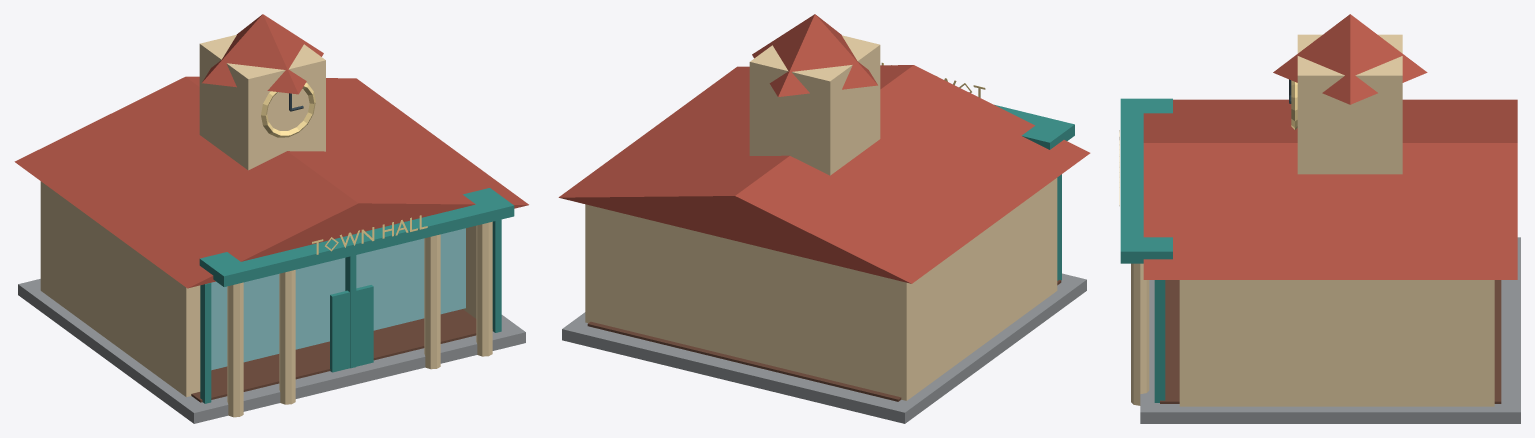
The model's file is town_hall.glb.
The picture shows the model from 3 angles, left to right: view 1: azimuth 30°, elevation 25°; view 2: azimuth 150°, elevation 25°; view 3: azimuth 270°, elevation 25°; orthographic projection. The views are drawn at different scales.
Parts seen in each view (by area): view 1: gable_roof, side_wall, window_back, clock_tower, foundation, portico, floor, tower_cap, door, column.003, column.001, column (+8 smaller); view 2: gable_roof, rear_wall, side_wall, clock_tower, foundation, tower_cap, floor, portico, front_post; view 3: gable_roof, side_wall.001, clock_tower, foundation, tower_cap, portico, floor, rear_wall, column.003, front_post.002.
Boxes of the visible parts, bbox=[...] form: gable_roof: bbox=[14, 76, 528, 288]; side_wall: bbox=[46, 188, 200, 397]; window_back: bbox=[211, 228, 465, 370]; clock_tower: bbox=[199, 34, 325, 170]; foundation: bbox=[18, 279, 525, 423]; portico: bbox=[199, 188, 514, 286]; floor: bbox=[191, 309, 492, 402]; tower_cap: bbox=[202, 14, 323, 94]; door: bbox=[330, 285, 373, 372]; column.003: bbox=[476, 221, 492, 356]; column.001: bbox=[279, 270, 295, 404]; column: bbox=[227, 282, 243, 417]; gable_roof: bbox=[558, 65, 1090, 283]; rear_wall: bbox=[585, 204, 916, 400]; side_wall: bbox=[913, 178, 1057, 395]; clock_tower: bbox=[749, 35, 880, 175]; foundation: bbox=[562, 273, 1086, 423]; tower_cap: bbox=[752, 14, 877, 96]; floor: bbox=[587, 280, 1061, 401]; portico: bbox=[994, 104, 1074, 149]; front_post: bbox=[1057, 174, 1061, 280]; gable_roof: bbox=[1143, 99, 1517, 279]; side_wall.001: bbox=[1179, 280, 1481, 406]; clock_tower: bbox=[1297, 34, 1402, 174]; foundation: bbox=[1140, 237, 1520, 423]; tower_cap: bbox=[1273, 14, 1427, 104]; portico: bbox=[1120, 98, 1172, 263]; floor: bbox=[1160, 280, 1501, 403]; rear_wall: bbox=[1475, 280, 1494, 406]; column.003: bbox=[1131, 263, 1149, 405]; front_post.002: bbox=[1154, 280, 1165, 402].
Size of the model in its own units: 6.6 by 5.5 by 6.21.
